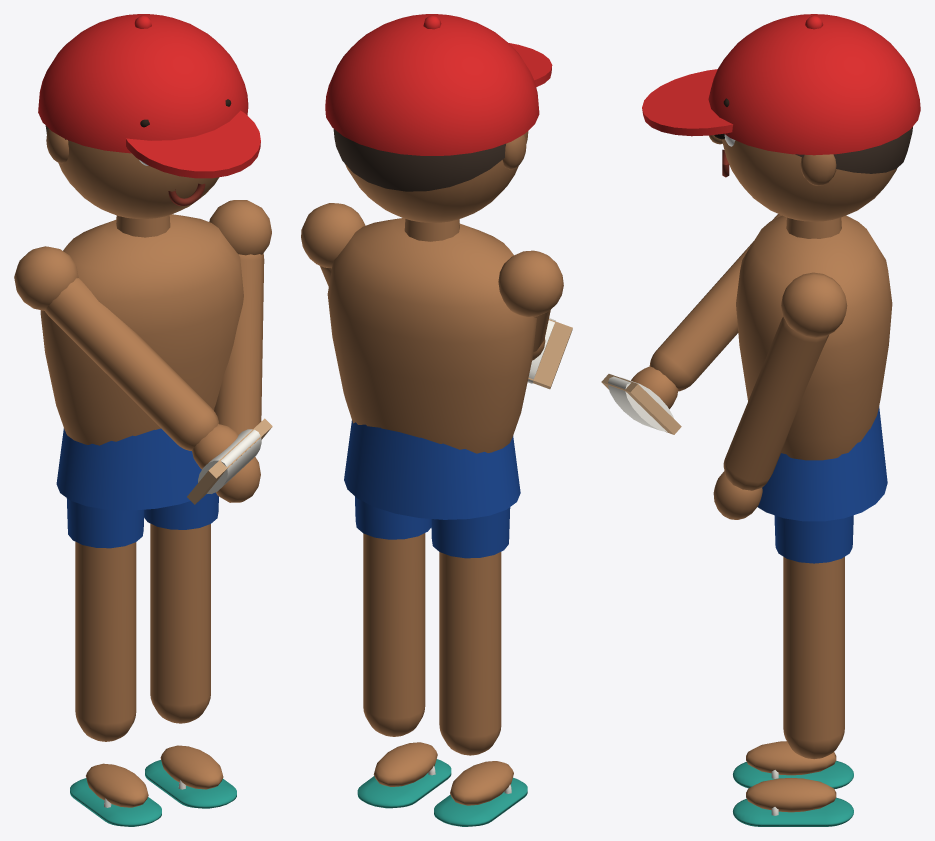
File: sem-camisa.glb
3 views of the same model, side by side, from view 1: azimuth 30°, elevation 25°; view 2: azimuth 150°, elevation 25°; view 3: azimuth 270°, elevation 25° (orthographic).
Visible parts, largest first — view 1: sem-camisa; view 2: sem-camisa; view 3: sem-camisa.
Part boxes in pixels (x1,y1,x2,y2): sem-camisa: (14,14,272,826); sem-camisa: (301,14,572,826); sem-camisa: (601,14,920,826).
Bounding box in the file's own units: 0.6326 × 1.88 × 0.6953.
